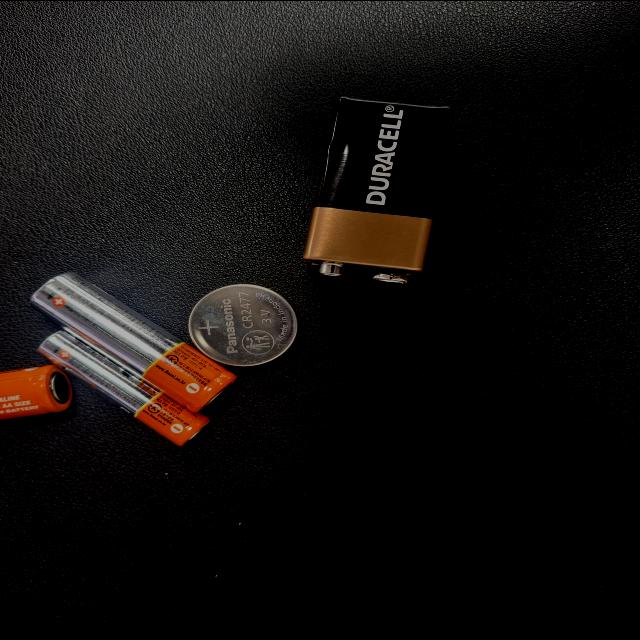9V: (128, 297, 376, 415)
AA: (362, 462, 546, 616), (484, 584, 566, 640)
AAA: (440, 480, 592, 610)
COIN: (379, 416, 486, 498)
